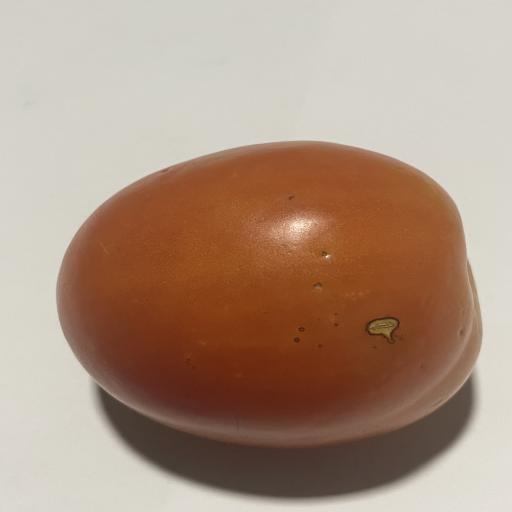unripe: (57, 141, 481, 446)
